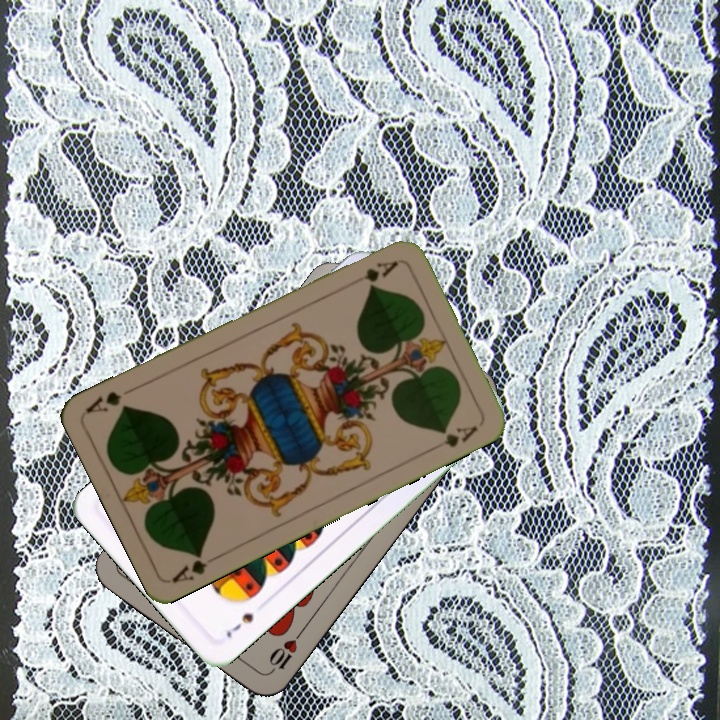GA: (167, 547, 223, 585), (345, 256, 401, 290)
H10: (264, 627, 305, 678)
S7: (222, 609, 256, 641)
